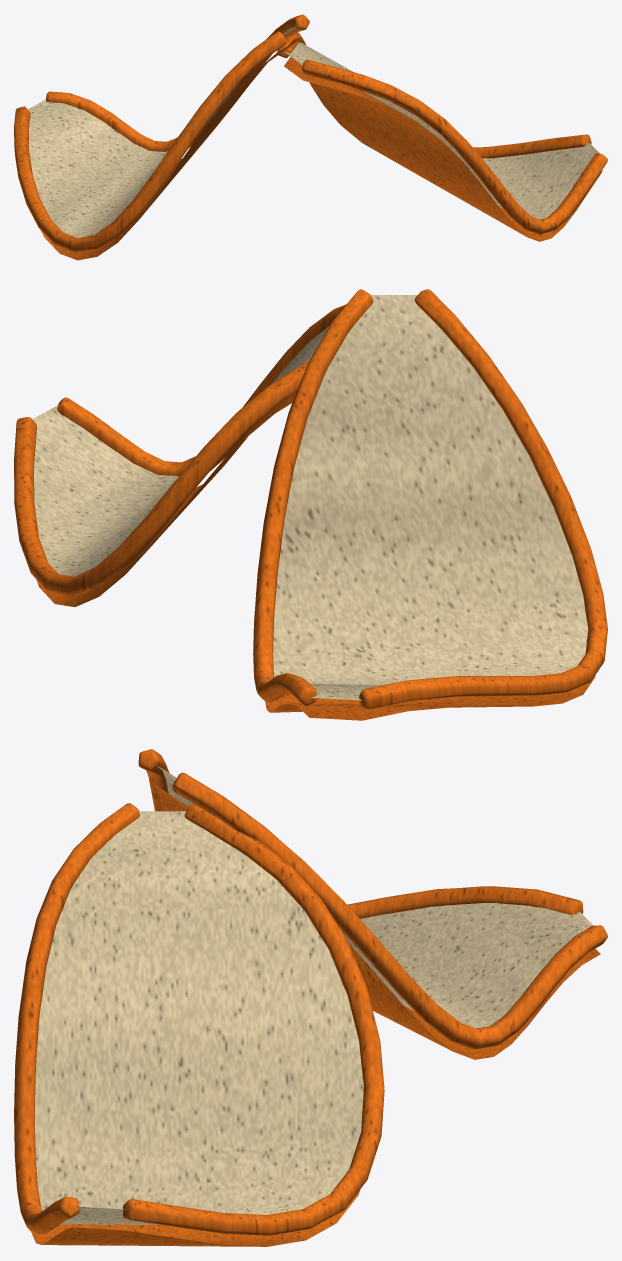
File: food-13-half.glb
3 views of the same model, one above another, from view 1: azimuth 30°, elevation 25°; view 2: azimuth 150°, elevation 25°; view 3: azimuth 270°, elevation 25° (orthographic). The views are drawn at different scales.
Visible parts, largest first — view 1: Food; view 2: Food; view 3: Food.
Part boxes in pixels (x1,y1,x2,y2): Food: (14,14,607,260); Food: (14,289,607,720); Food: (14,749,607,1246).
Bounding box in the file's own units: 0.5771 × 0.269 × 0.4355.
1 material, 1 textured.
